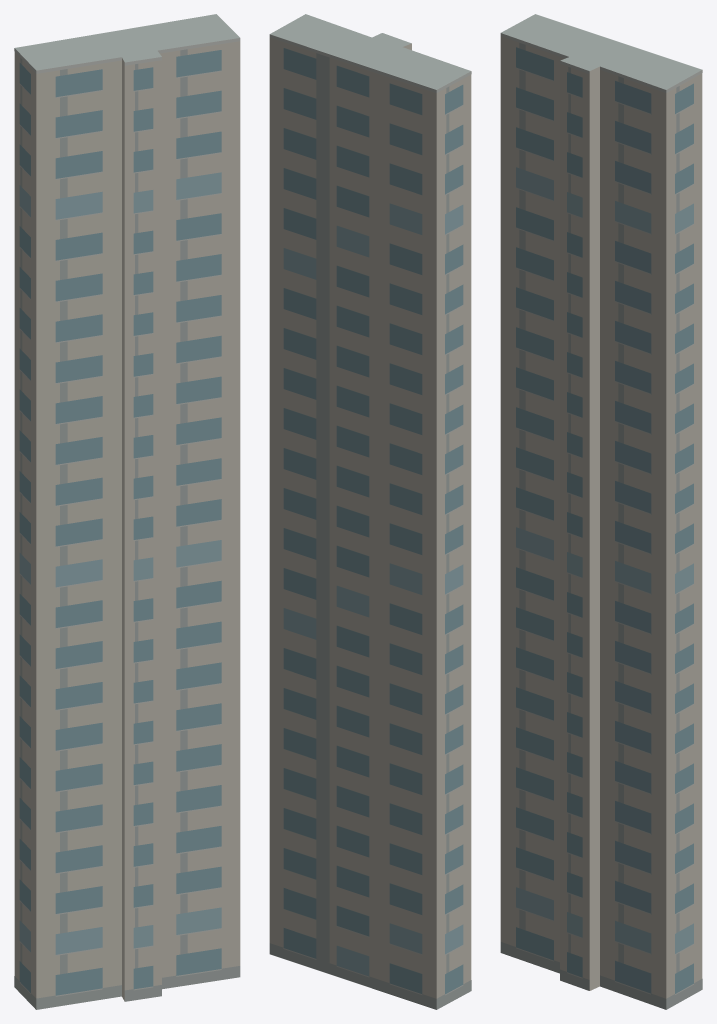
File: survey-upis-32955250.glb
The picture shows the model from 3 angles, left to right: view 1: azimuth 30°, elevation 25°; view 2: azimuth 150°, elevation 25°; view 3: azimuth 330°, elevation 25°; orthographic projection. The views are drawn at different scales.
Parts seen in each view (by area): view 1: survey-upis-32955250.tmp; view 2: survey-upis-32955250.tmp; view 3: survey-upis-32955250.tmp.
Boxes of the visible parts, x1,y1,x2,y2 form: survey-upis-32955250.tmp: [14, 14, 240, 1009]; survey-upis-32955250.tmp: [269, 14, 471, 1009]; survey-upis-32955250.tmp: [500, 14, 702, 1009].
Size of the model in its own units: 15.11 by 70.15 by 6.26.
